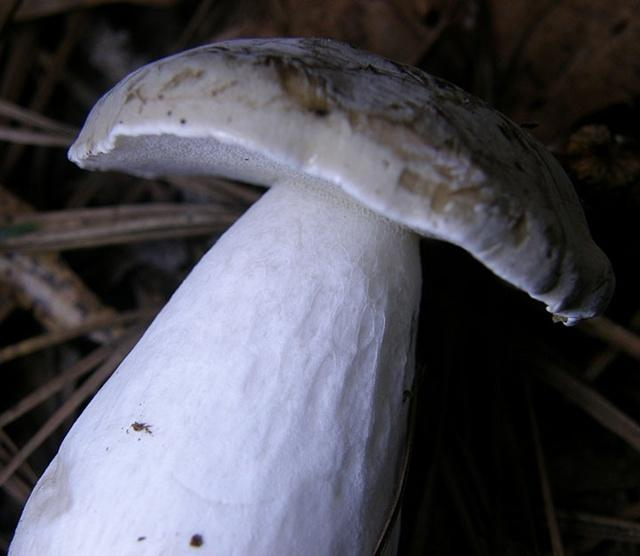edible_mushroom: (6, 34, 615, 554)
